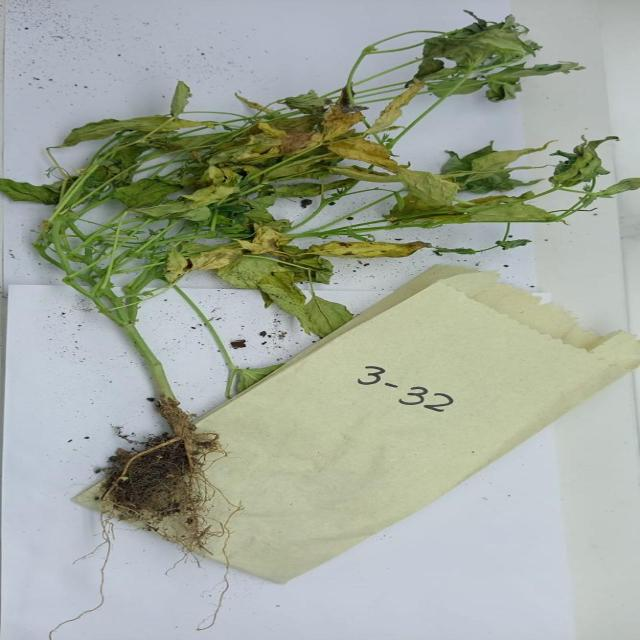Root: (158, 466, 241, 634), (81, 479, 151, 616), (103, 422, 222, 486)
Stem: (65, 282, 172, 404), (27, 242, 123, 314), (44, 216, 151, 279)
healty_leaves: (416, 14, 565, 105), (433, 147, 625, 189), (231, 258, 348, 326), (383, 199, 580, 232), (0, 157, 116, 208), (104, 145, 184, 205), (173, 207, 320, 235)
rooten_leaf: (146, 278, 234, 360), (194, 151, 274, 202), (54, 115, 222, 138), (300, 238, 439, 258), (312, 98, 366, 144), (366, 82, 400, 128), (275, 121, 327, 149)
